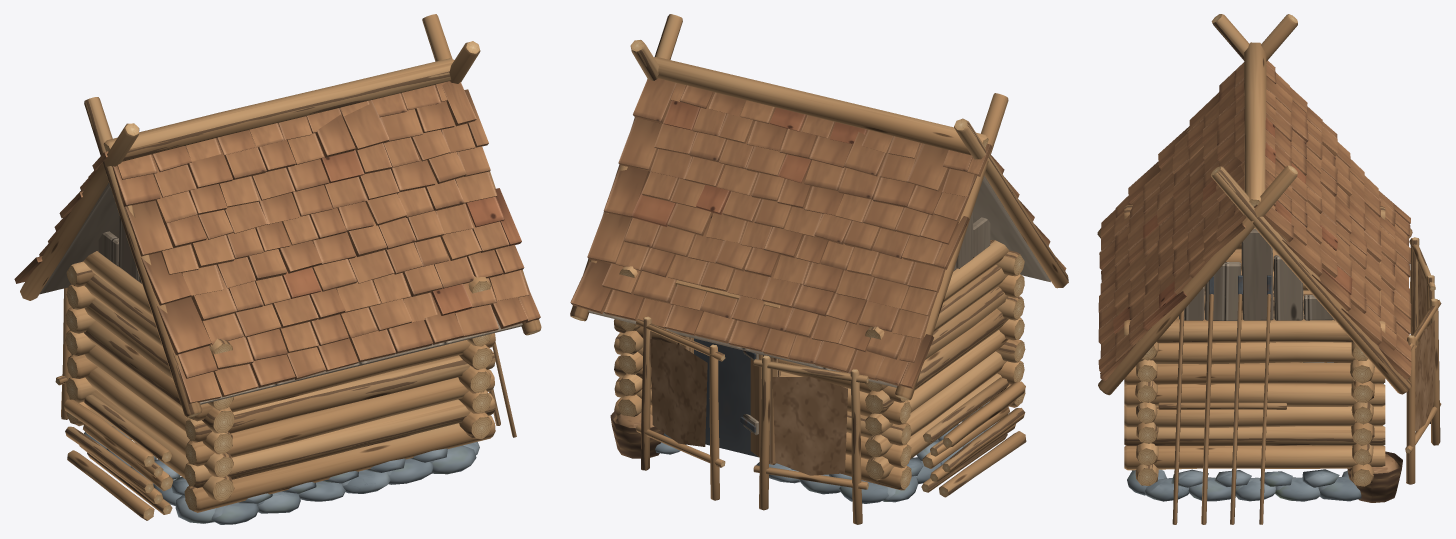
File: bw_hunters_lodge.fbx
3 renders of one model, left to right at view 1: azimuth 30°, elevation 25°; view 2: azimuth 150°, elevation 25°; view 3: azimuth 270°, elevation 25°, orthographic. The views are drawn at different scales.
Parts seen in each view (by area): view 1: bw_hunters_lodge; view 2: bw_hunters_lodge; view 3: bw_hunters_lodge.
Part boxes in pixels (bbox=[...]): bw_hunters_lodge: bbox=[14, 14, 541, 524]; bw_hunters_lodge: bbox=[570, 14, 1068, 524]; bw_hunters_lodge: bbox=[1097, 14, 1441, 524].
Bounding box in the file's own units: 2.46 × 2.41 × 2.15.
